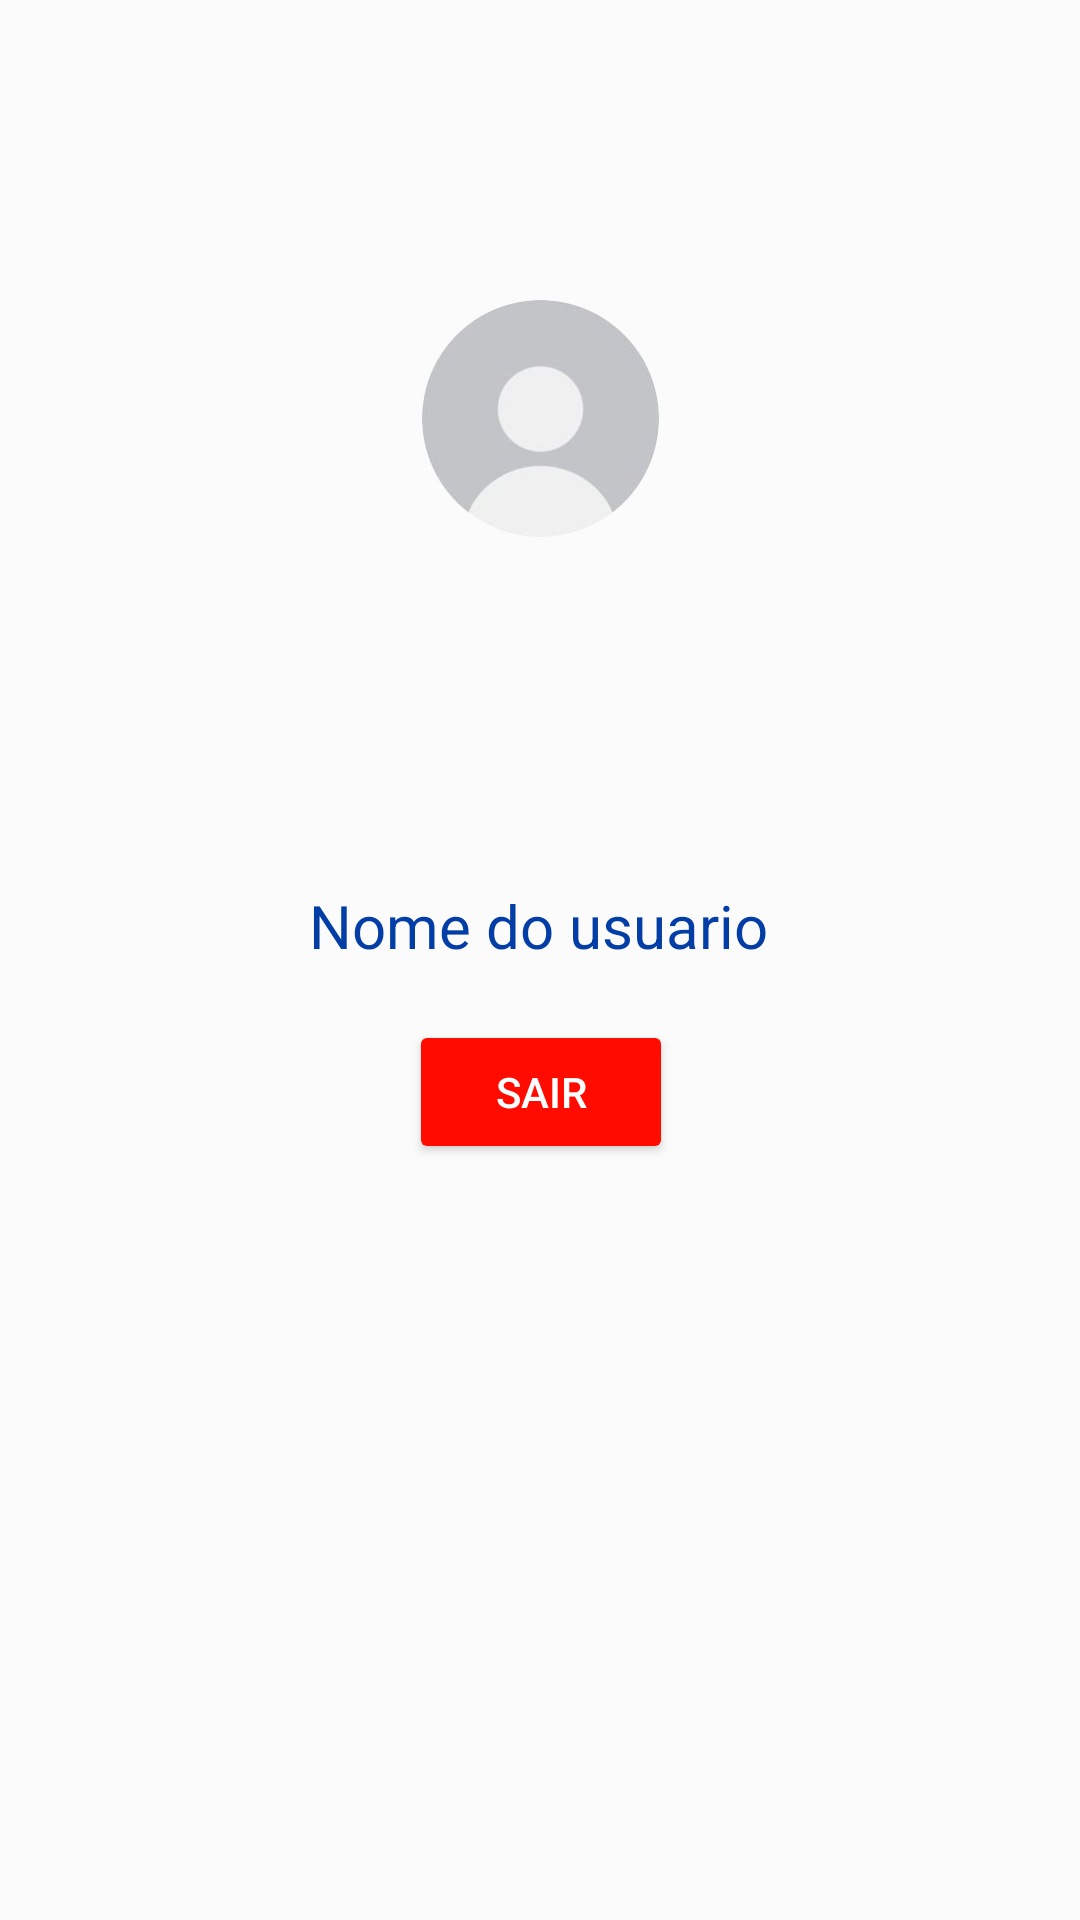

Screen size 1080*1920. Icon name, then its center in pixels as [x,y]:
semfoto: [540,406]
